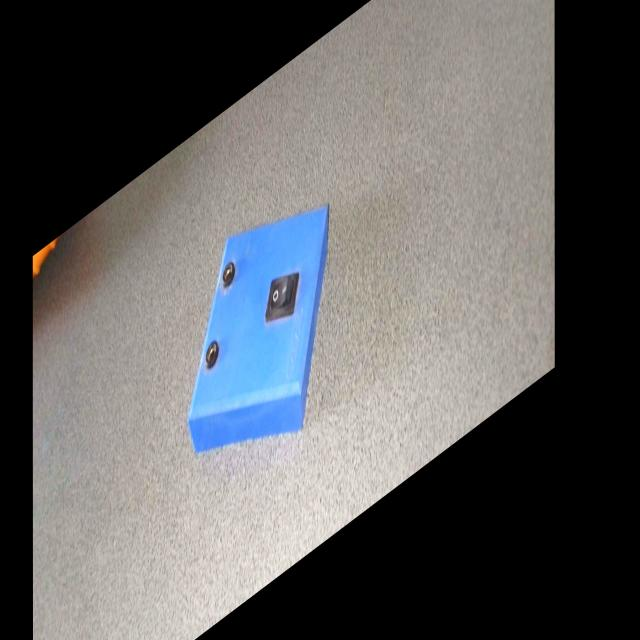ON-OFF Switch: (184, 148, 340, 536)
